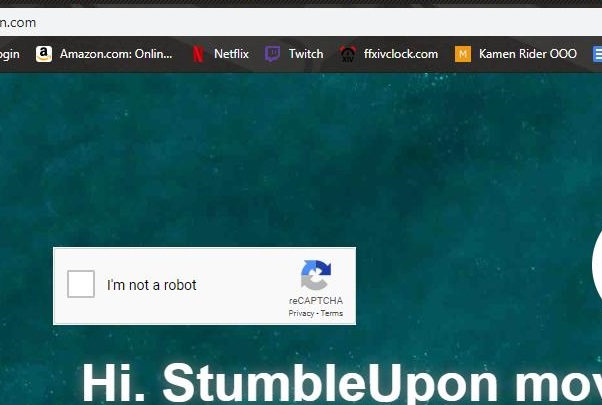captcha: (66, 270, 196, 299)
